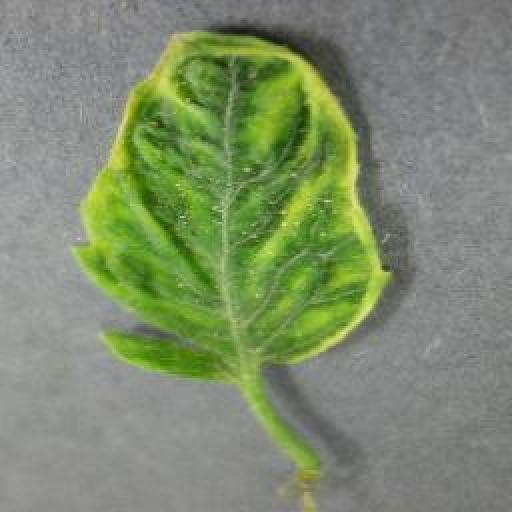disease_tomato: (70, 30, 391, 382)
